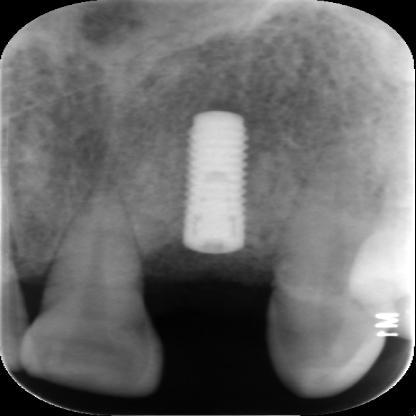ITI: (175, 108, 256, 253)
